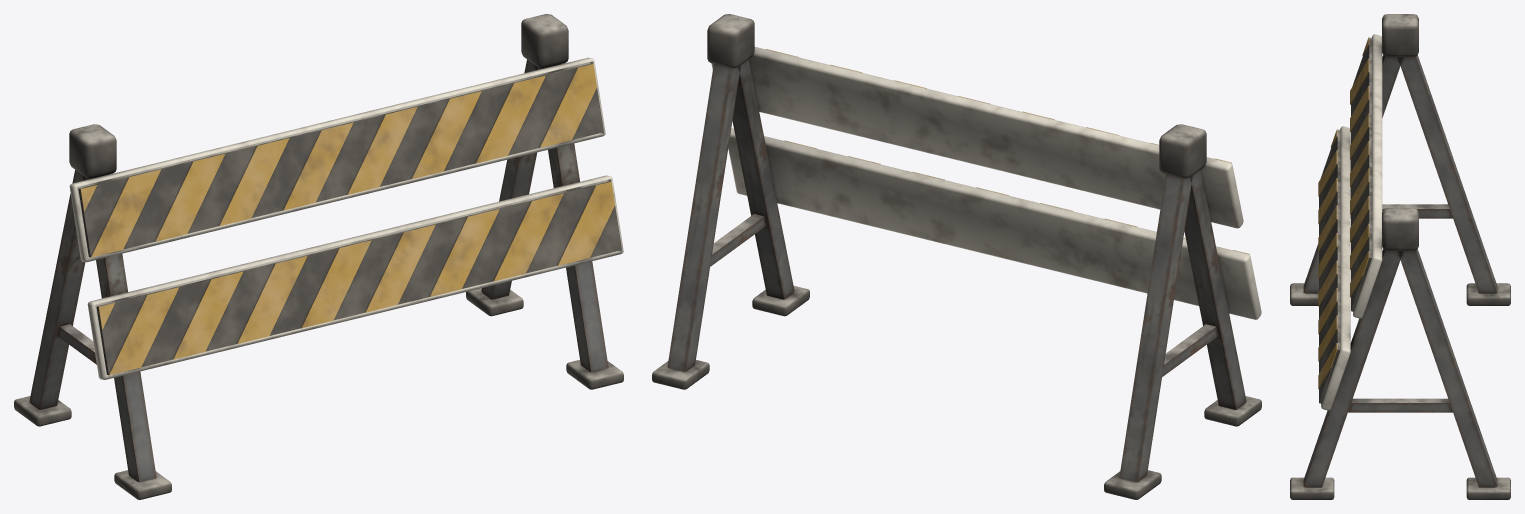
The model's file is hazard_barrier.fbx.
The picture shows the model from 3 angles, left to right: view 1: azimuth 30°, elevation 25°; view 2: azimuth 150°, elevation 25°; view 3: azimuth 270°, elevation 25°; orthographic projection. The views are drawn at different scales.
Visible parts, largest first — view 1: Body; view 2: Body; view 3: Body.
Boxes of the visible parts, box(x1,y1,x2,y2) form: Body: box(14, 14, 623, 499); Body: box(652, 14, 1261, 499); Body: box(1290, 14, 1510, 499).
Size of the model in its own units: 6 by 3.51 by 2.5.
1 material, 1 textured.
